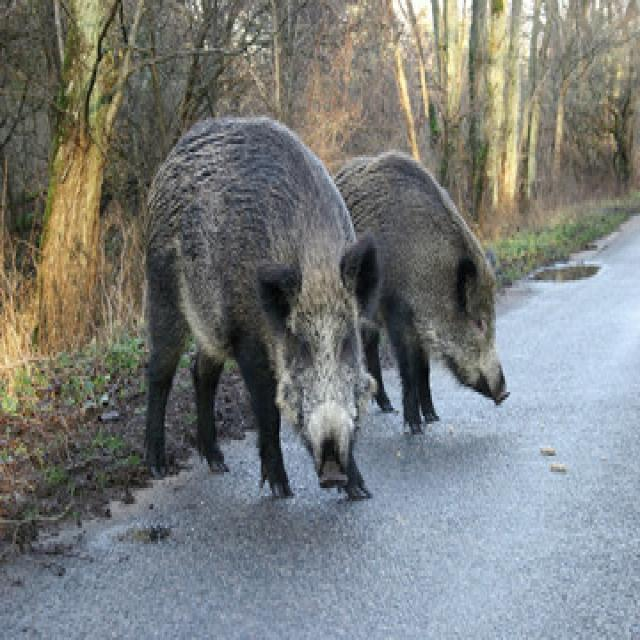boar: (138, 115, 377, 504), (331, 154, 513, 438)
